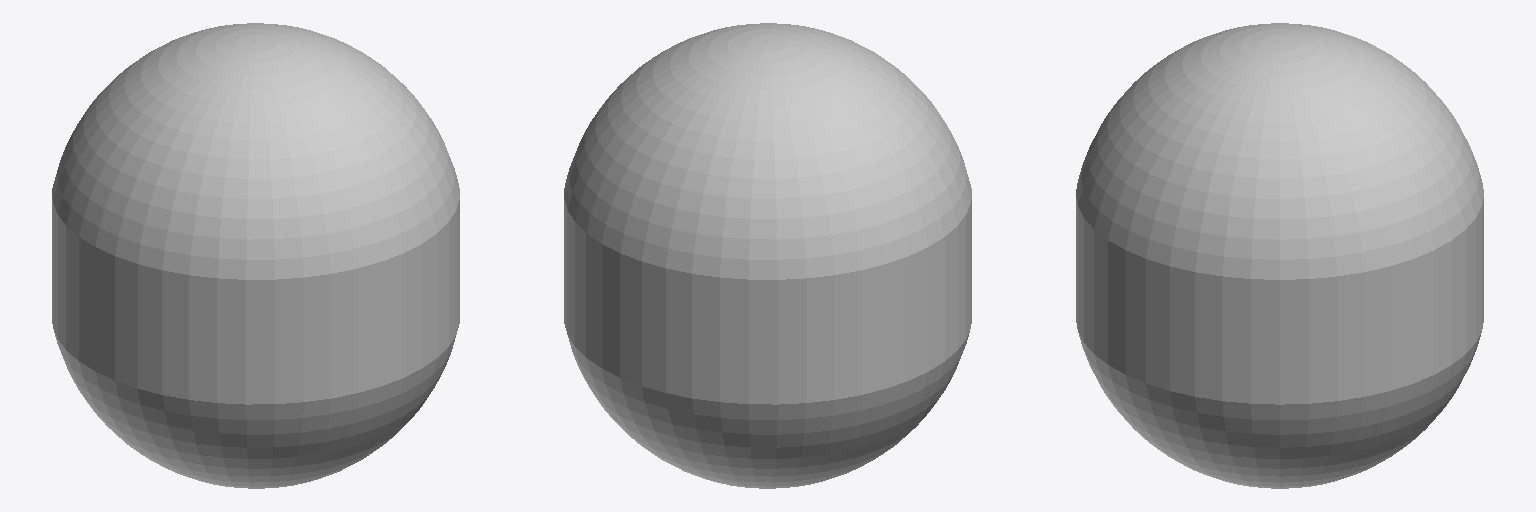
The model's file is testrgl.obj.
3 views of the same model, side by side, from view 1: azimuth 30°, elevation 25°; view 2: azimuth 150°, elevation 25°; view 3: azimuth 270°, elevation 25° (orthographic).
Visible parts, largest first — view 1: OilTank001; view 2: OilTank001; view 3: OilTank001.
Boxes of the visible parts, x1=… form: OilTank001: x1=52, y1=23, x2=459, y2=488; OilTank001: x1=564, y1=23, x2=971, y2=488; OilTank001: x1=1076, y1=23, x2=1483, y2=488.
Bounding box in the file's own units: 89.09 × 103 × 89.1.